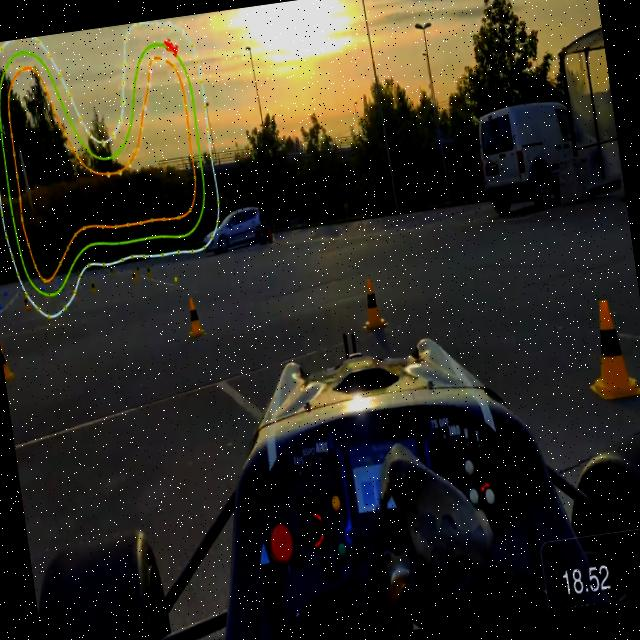blue_cone: (2, 284, 9, 300), (0, 293, 4, 310)
yellow_cone: (573, 284, 640, 409), (354, 269, 388, 334), (183, 294, 209, 346), (0, 333, 16, 386), (23, 289, 32, 311), (90, 278, 99, 296), (146, 264, 154, 279), (131, 270, 138, 284), (136, 264, 141, 278)
